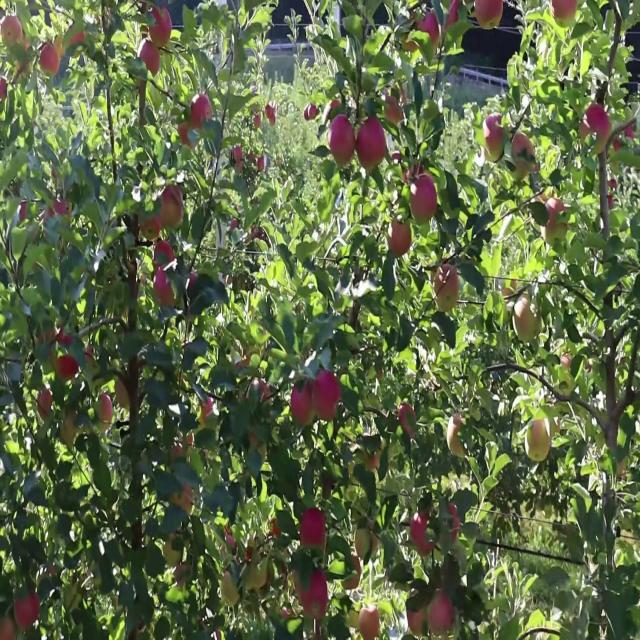apple: (296, 568, 329, 622), (408, 170, 439, 224), (312, 369, 343, 421), (328, 113, 356, 167), (360, 120, 388, 169), (428, 590, 456, 636), (516, 298, 543, 343), (584, 106, 612, 148), (160, 184, 184, 229), (528, 419, 552, 464), (300, 511, 328, 549), (412, 511, 435, 556), (148, 7, 172, 50), (16, 590, 40, 633), (292, 383, 315, 427), (436, 263, 460, 304), (384, 85, 408, 126), (388, 220, 413, 258), (356, 526, 381, 560), (416, 14, 441, 48), (476, 0, 504, 30), (612, 120, 635, 155), (448, 412, 465, 459), (512, 135, 535, 169), (156, 270, 176, 309), (220, 568, 240, 606), (548, 199, 569, 235), (172, 483, 196, 514), (360, 604, 381, 639), (140, 42, 160, 78), (40, 42, 60, 78), (580, 106, 600, 142), (56, 355, 80, 384), (140, 213, 164, 242), (344, 554, 363, 590), (552, 0, 579, 25), (484, 113, 504, 146), (192, 99, 213, 130), (408, 604, 427, 638), (4, 14, 23, 48), (60, 412, 79, 446), (172, 433, 195, 460), (164, 533, 182, 567), (44, 327, 73, 348), (400, 405, 417, 439), (116, 376, 131, 412), (364, 447, 383, 475), (252, 568, 271, 596), (156, 241, 176, 267), (444, 0, 461, 30), (244, 533, 259, 567), (448, 504, 461, 542), (36, 391, 53, 420), (100, 391, 113, 427), (256, 376, 272, 404), (52, 327, 73, 348), (52, 199, 72, 219), (180, 120, 193, 149), (488, 142, 505, 164), (0, 618, 17, 639), (176, 561, 189, 588), (200, 398, 214, 423), (608, 177, 618, 212), (68, 35, 87, 52), (328, 99, 343, 119), (68, 35, 87, 50), (252, 227, 268, 244), (264, 106, 276, 128), (268, 519, 281, 539), (16, 56, 27, 78), (236, 355, 252, 370), (232, 149, 244, 169), (224, 533, 237, 551), (188, 270, 198, 293), (20, 35, 31, 55), (560, 355, 573, 370), (84, 348, 96, 363), (20, 199, 28, 220), (232, 220, 240, 233), (4, 78, 8, 100), (216, 632, 223, 639)
